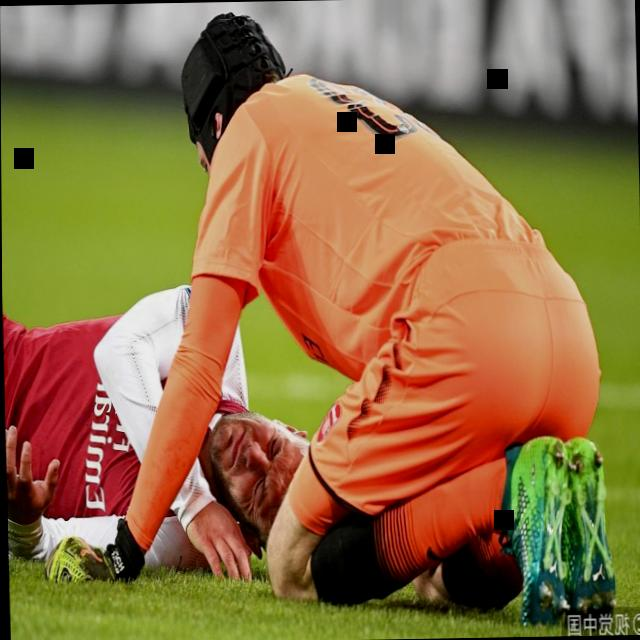Fall-Detected: (35, 1, 620, 636)
